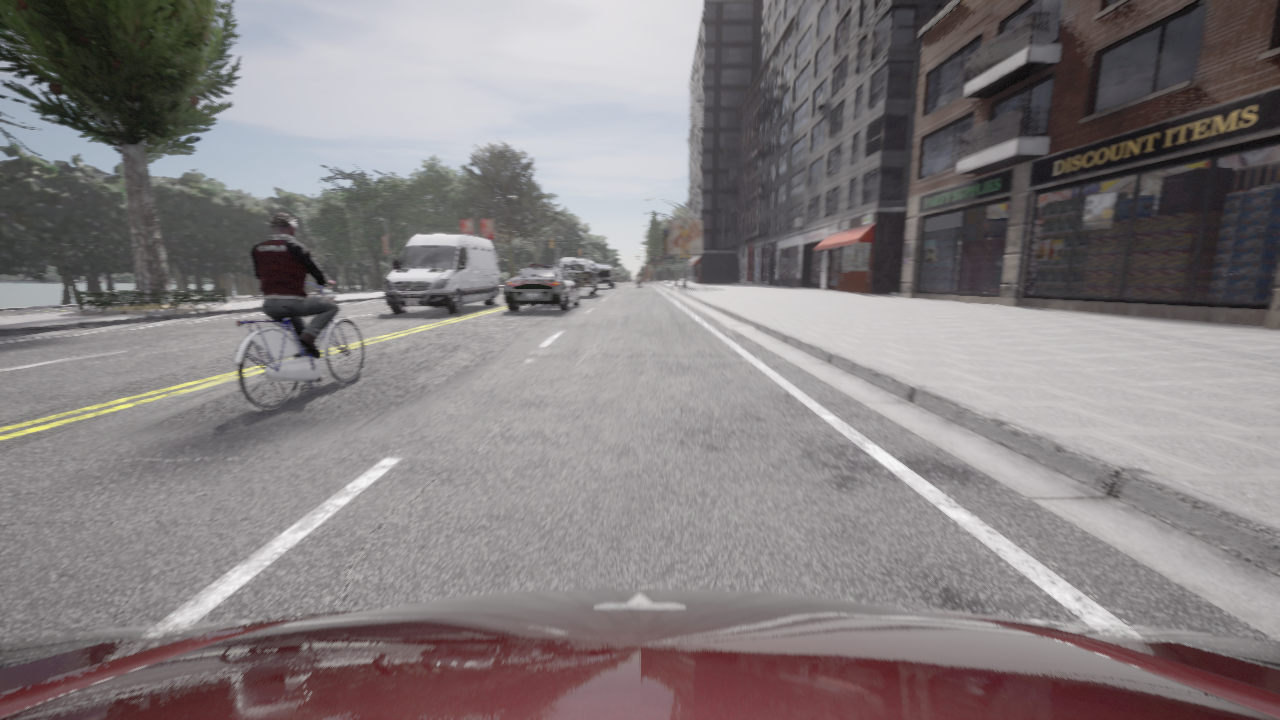cyclist: (0, 588, 1279, 719), (235, 282, 363, 410), (384, 234, 499, 313), (503, 264, 579, 311), (560, 258, 599, 296), (595, 264, 616, 288), (635, 276, 641, 286)
